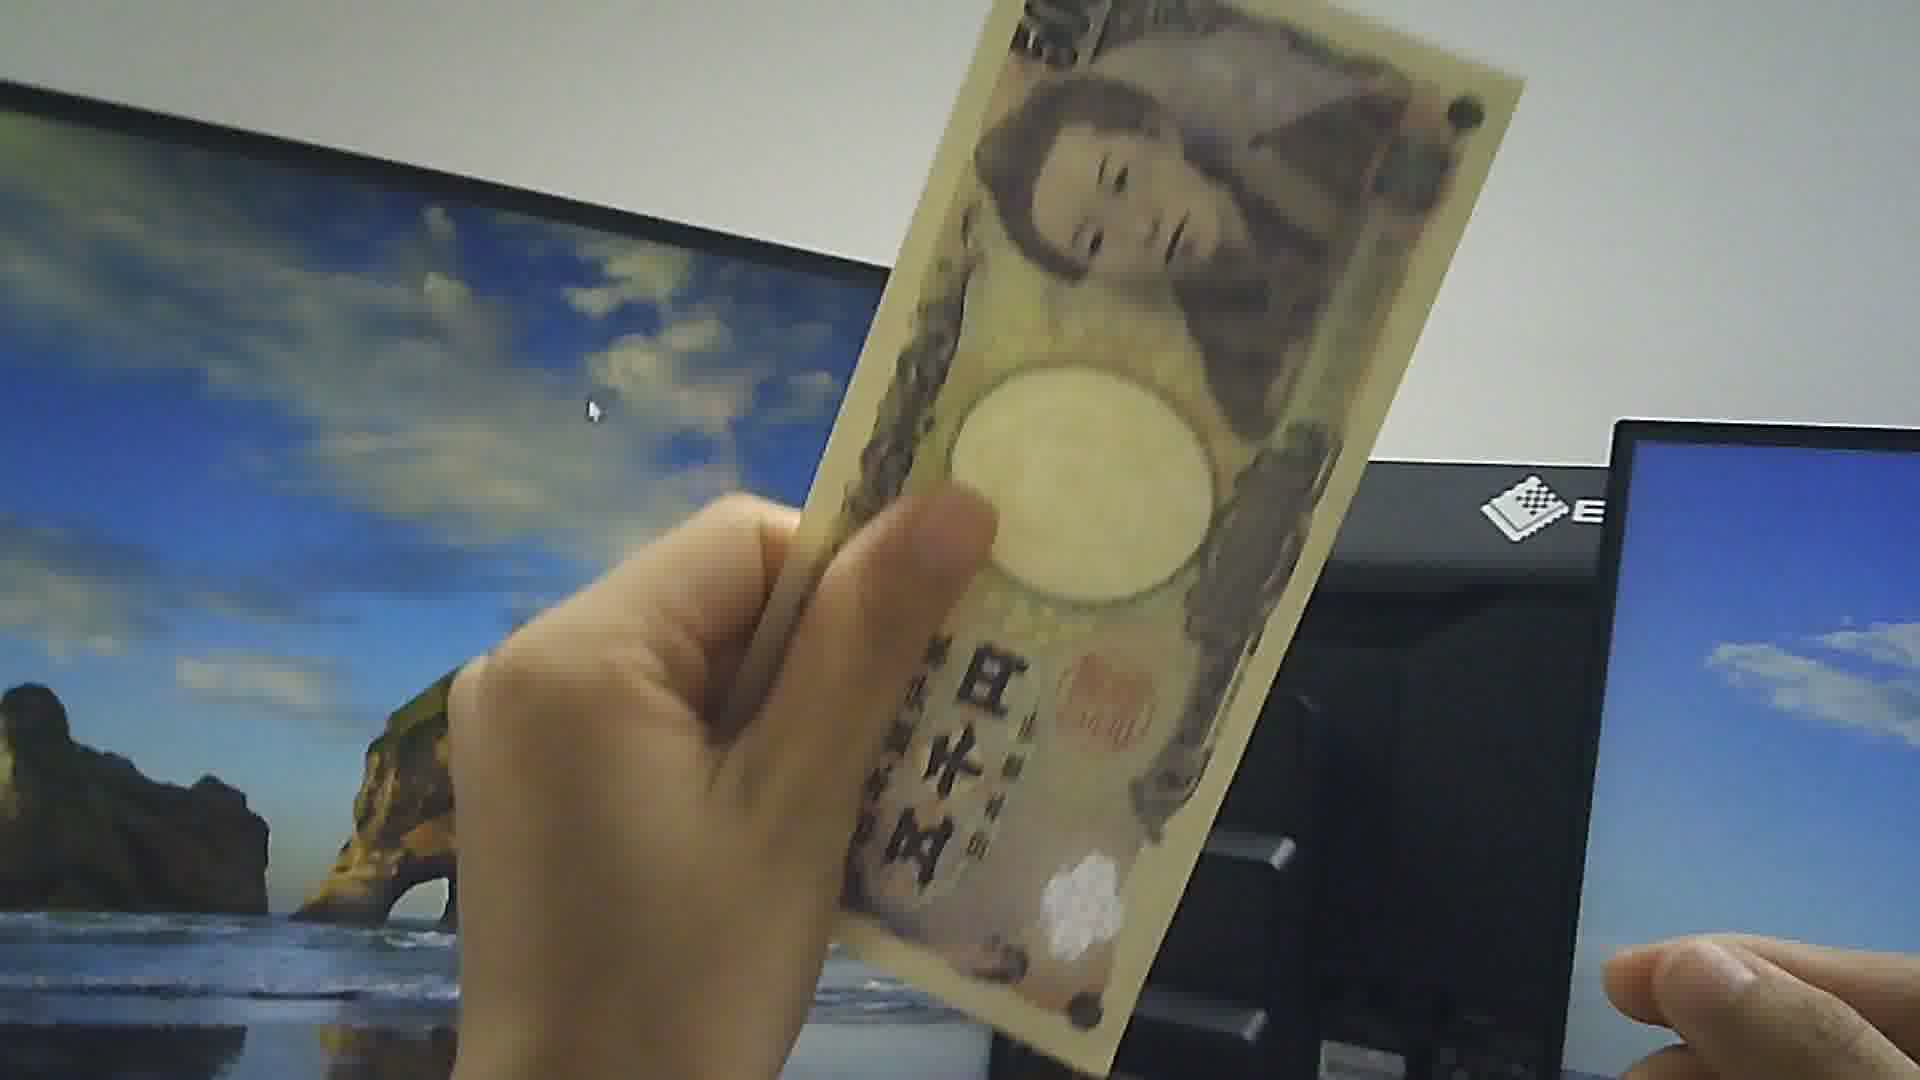5,000 Yen: (750, 1, 1494, 1073)
